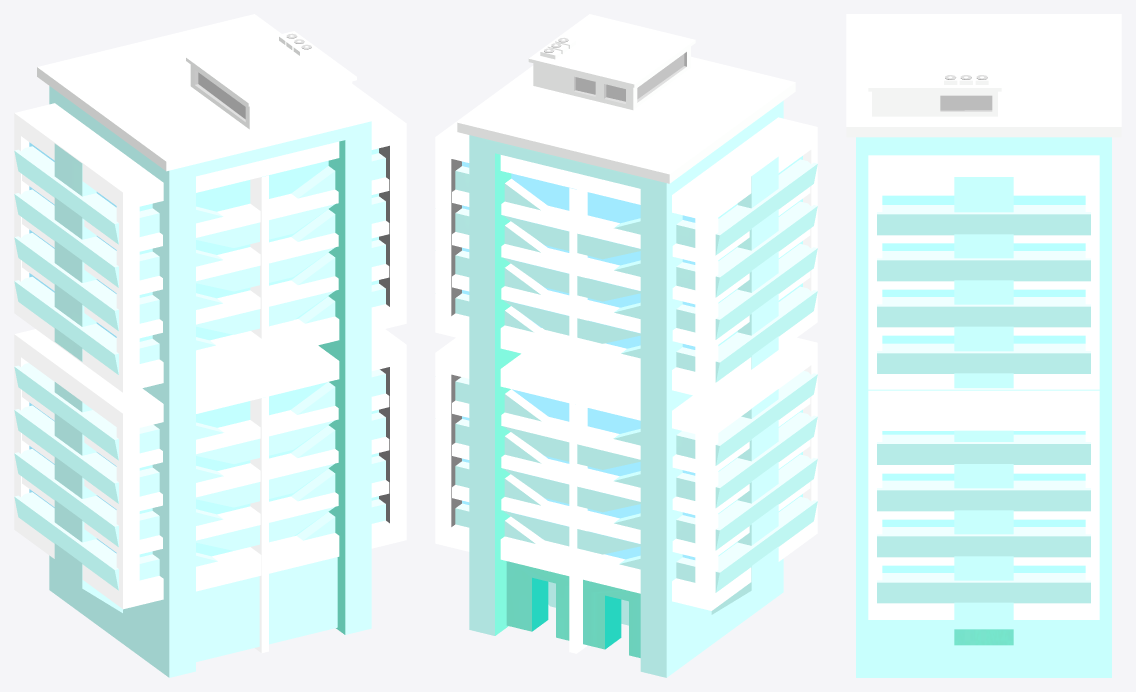
Rendered from tile_for_home_2x2.002 (6).glb.
3 renders of one model, left to right at view 1: azimuth 30°, elevation 25°; view 2: azimuth 150°, elevation 25°; view 3: azimuth 270°, elevation 25°, orthographic. The views are drawn at different scales.
Visible parts, largest first — view 1: apartment 1.002; view 2: apartment 1.002; view 3: apartment 1.002.
Boxes of the visible parts, x1,y1,x2,y2 form: apartment 1.002: (14,14,406,677); apartment 1.002: (435,14,817,677); apartment 1.002: (846,14,1121,677).
Bounding box in the file's own units: 15.41 × 28.1 × 11.81.
1 material, 1 textured.
